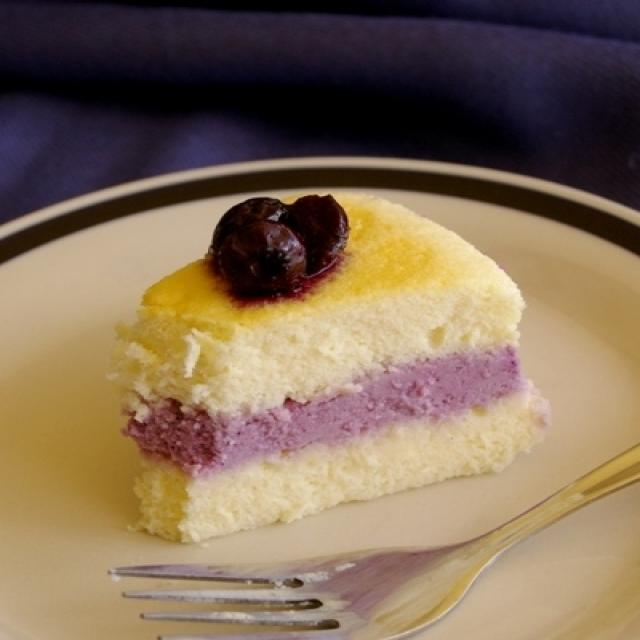蛋糕甜品: (1, 146, 634, 634)
